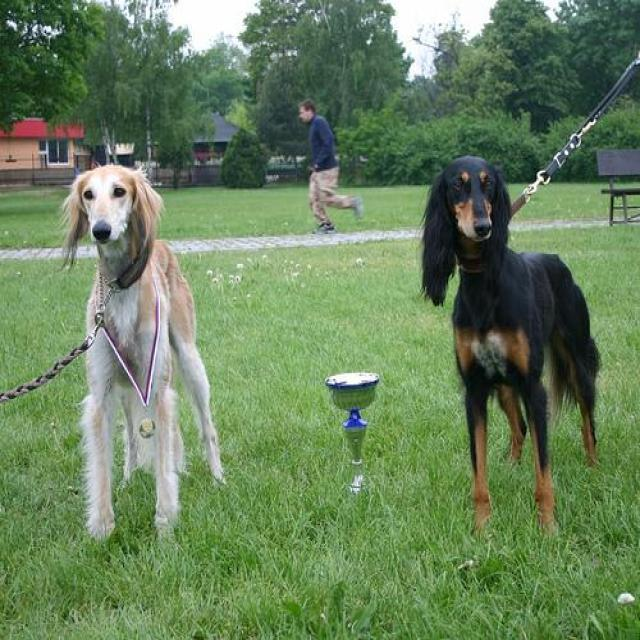saluki: (422, 155, 602, 557), (56, 162, 225, 547)
